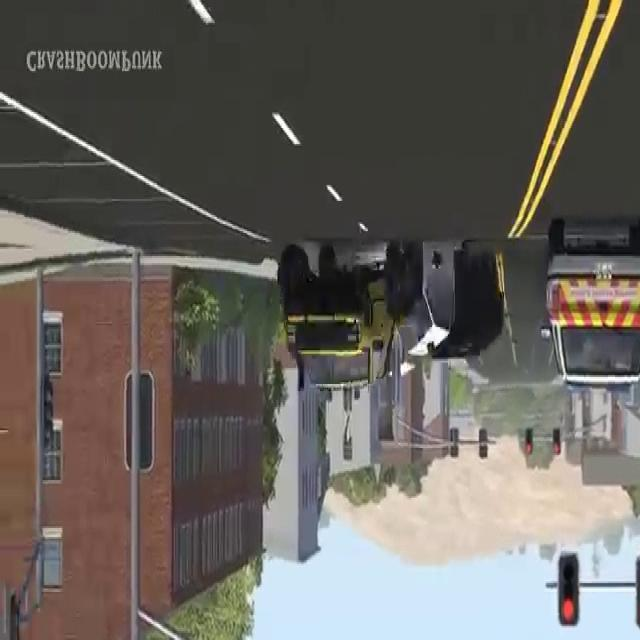moderate: (275, 230, 504, 400)
